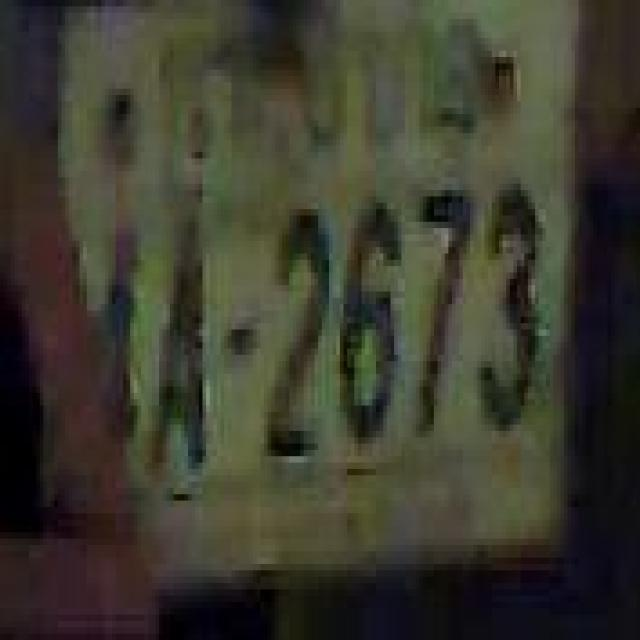Preah_Sihanouk: (152, 0, 480, 209)
